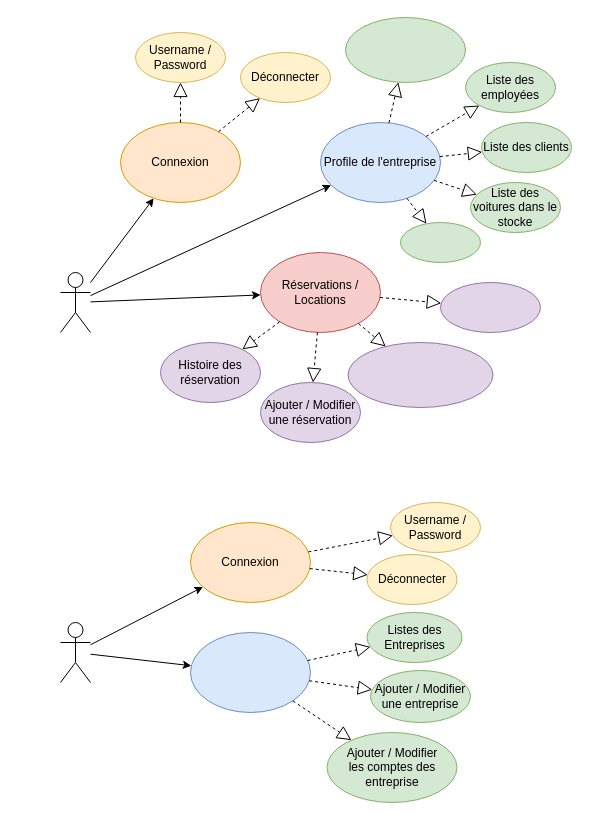
The diagram is 589 pixels wide and 820 high, and some of its shapes have lost their labels. Each missing label, with the centre of its shape:
Admin de l'application: point (75, 652)
Chercher la list par : Client / Voiture / Date ...: point (420, 375)
Employée: point (75, 302)
Entreprises: point (250, 672)
Listes des réservations: point (490, 307)
Promotions: point (440, 242)
Voir / Modifier des informations (Nom / Logo ...): point (405, 49)
